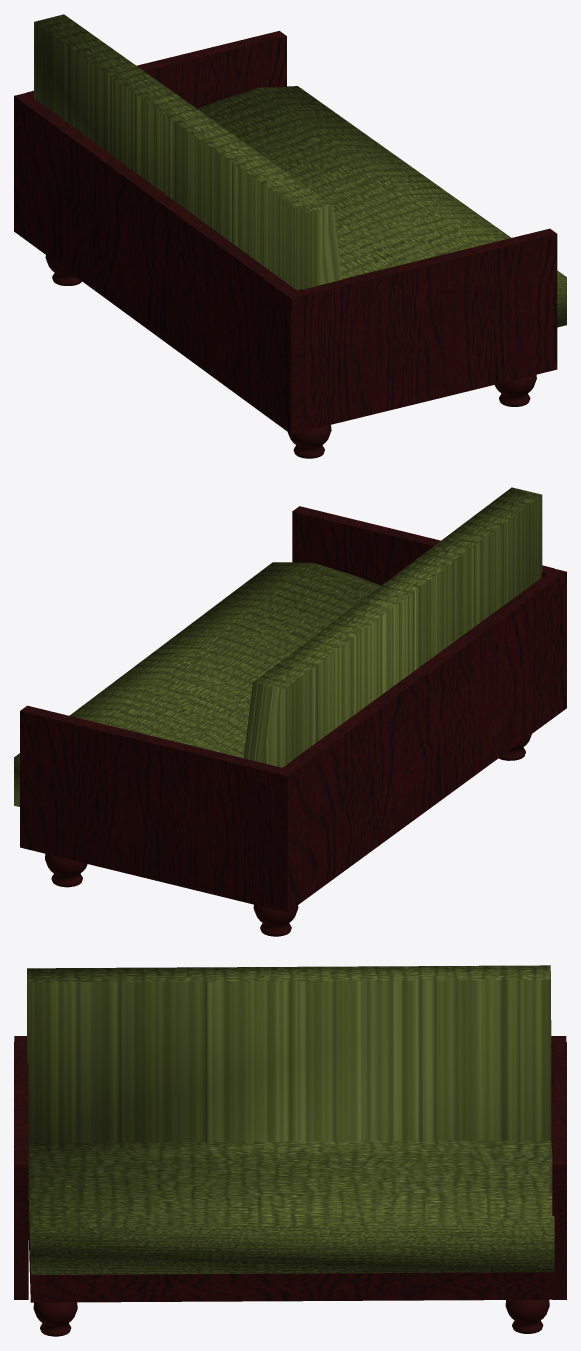
Rendered from sofa.fbx.
3 renders of one model, top to bottom at view 1: azimuth 30°, elevation 25°; view 2: azimuth 150°, elevation 25°; view 3: azimuth 270°, elevation 25°, orthographic.
Parts seen in each view (by area): view 1: arms, pillow, legs; view 2: arms, pillow, legs; view 3: pillow, base, arms, legs.
Boxes of the visible parts, left/top/right/bottom form: arms: left=14, top=31, right=557, bottom=434; pillow: left=34, top=14, right=566, bottom=327; legs: left=45, top=255, right=536, bottom=458; arms: left=20, top=506, right=566, bottom=912; pillow: left=14, top=487, right=542, bottom=806; legs: left=45, top=734, right=531, bottom=936; pillow: left=27, top=965, right=554, bottom=1274; base: left=28, top=1200, right=554, bottom=1302; arms: left=14, top=1036, right=566, bottom=1299; legs: left=33, top=1299, right=549, bottom=1336.
Bounding box in the file's own units: 112 × 95.69 × 190.
Materials: 2 (2 with a texture image).
